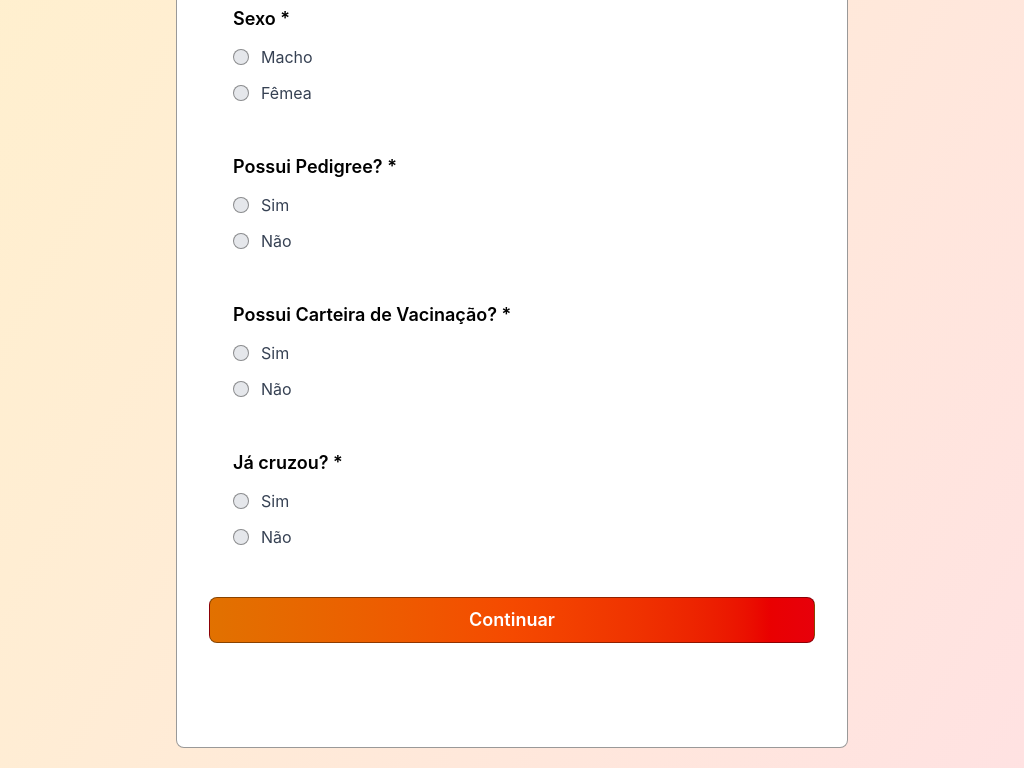
Scenario: shows error when petName is invalid
This screenshot has width=1024, height=768.
(page scrolled)
Click the button "Continuar": (512, 620) [209,597,815,643]
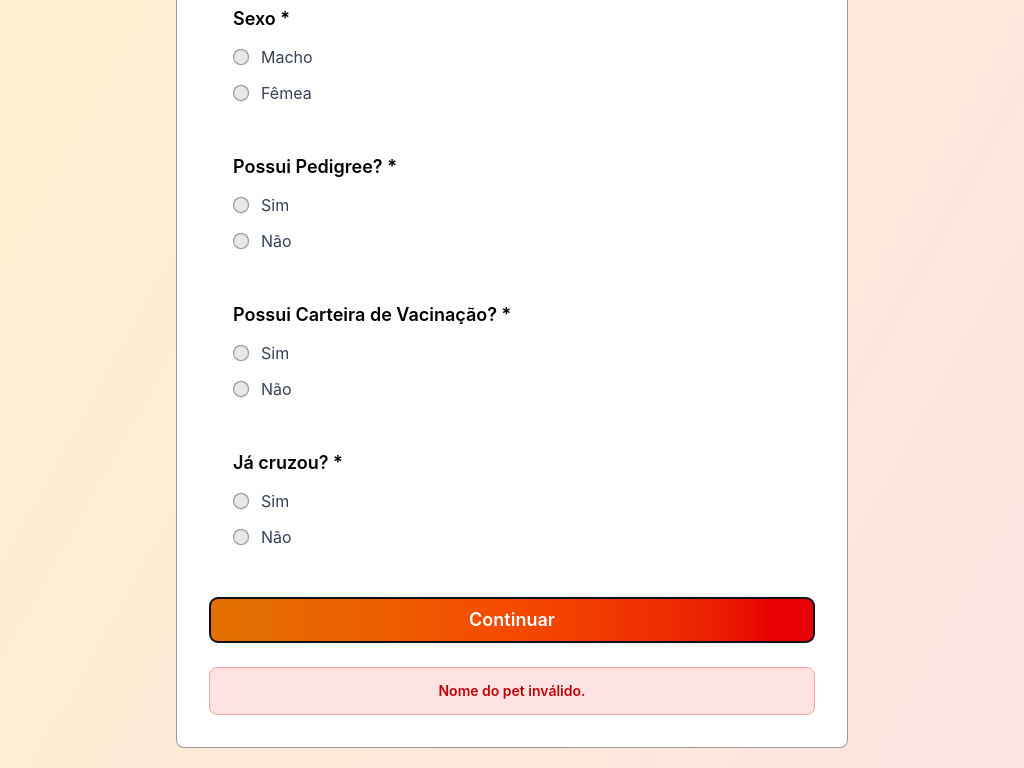
Now the text "Nome do pet inválido." is shown, box [209,667,815,715]
